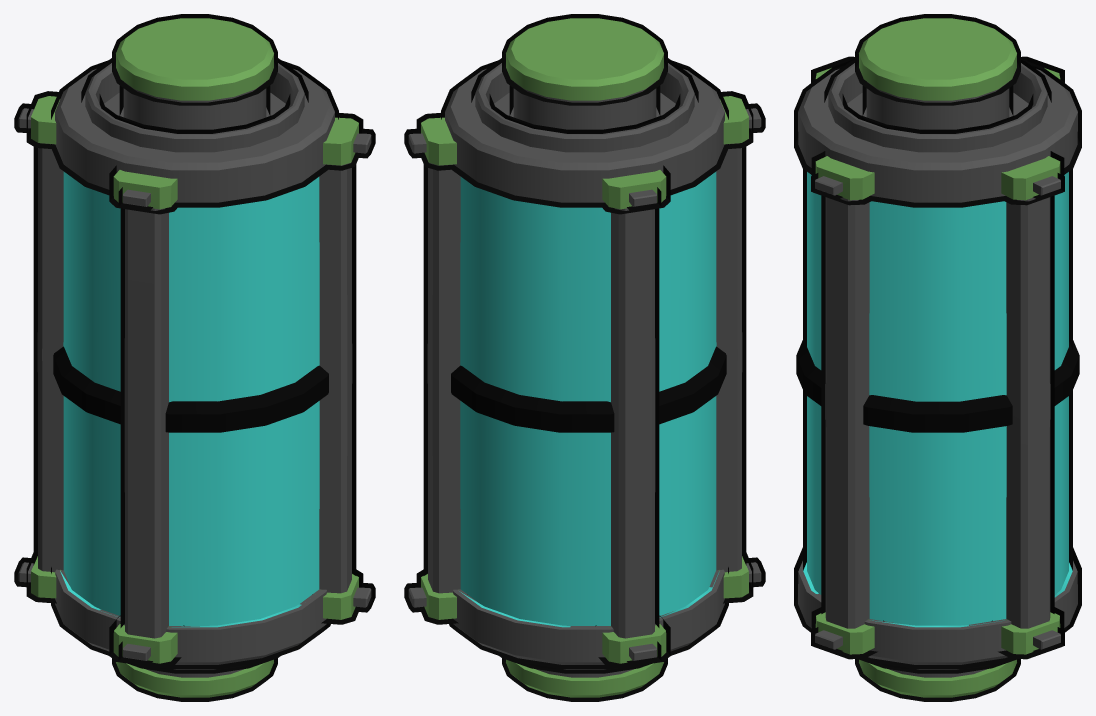
Rendered from Battery.fbx.
The picture shows the model from 3 angles, left to right: view 1: azimuth 30°, elevation 25°; view 2: azimuth 150°, elevation 25°; view 3: azimuth 270°, elevation 25°; orthographic projection.
Parts seen in each view (by area): view 1: Cylinder; view 2: Cylinder; view 3: Cylinder.
Part boxes in pixels (left/top/right/bottom): Cylinder: left=14, top=14, right=375, bottom=701; Cylinder: left=404, top=14, right=765, bottom=701; Cylinder: left=794, top=14, right=1081, bottom=701.
Bounding box in the file's own units: 0.3817 × 0.8944 × 0.3732.
